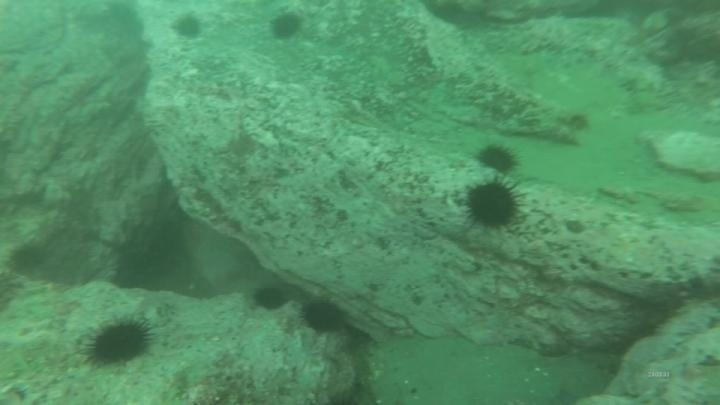echinus: (81, 315, 155, 369), (463, 177, 524, 232), (300, 296, 346, 336), (475, 141, 520, 175), (7, 241, 49, 276), (268, 10, 304, 42), (251, 283, 289, 313), (170, 12, 205, 42)
